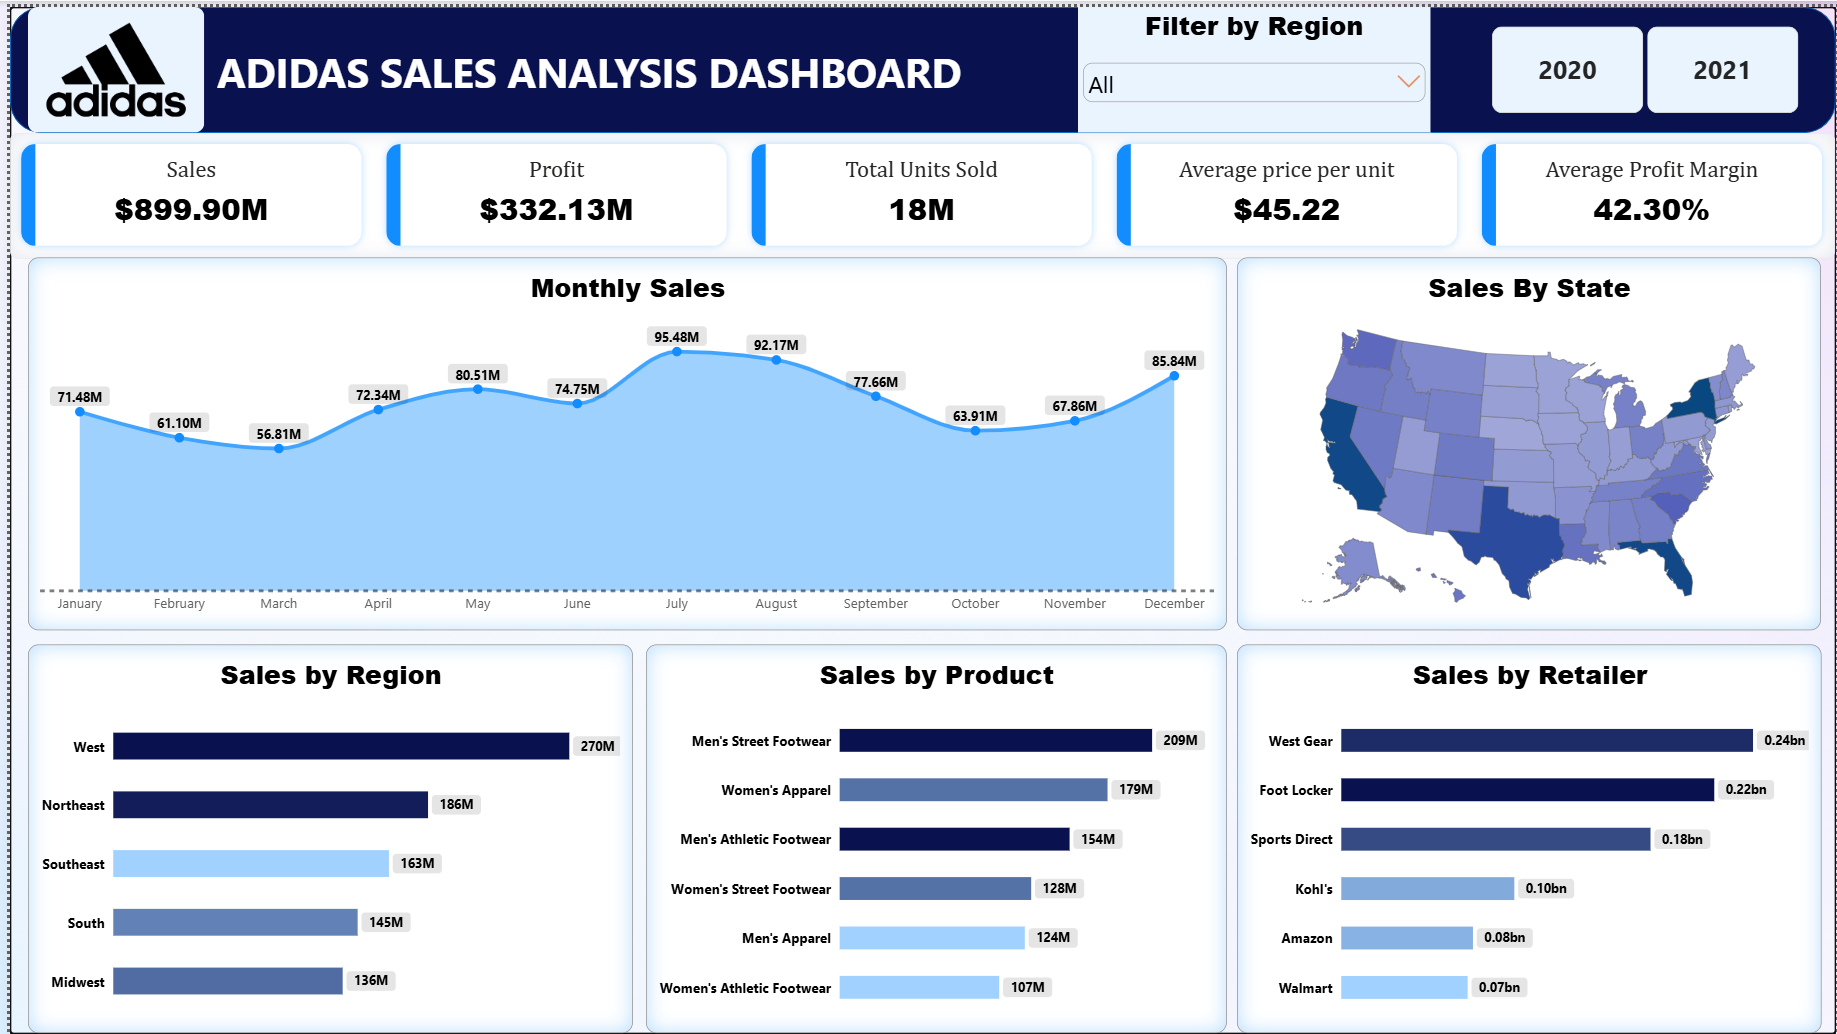

The page's visual inventory and layout, read from the dashboard file:
{"tool":"powerbi","page":{"name":"Page 1","canvas":[1920,1080],"ordinal":0},"visuals":[{"type":"cardVisual","fields":{"Data":["Data Sales Adidas.Total_Revenue","Data Sales Adidas.Profit","Data Sales Adidas.Total_quantity_sold","Data Sales Adidas.Average price per unit","Data Sales Adidas.Average Profit Margin"]},"box":[0,131.8,1919.4,131.8],"z":0},{"type":"stackedAreaChart","title":"Monthly Sales","fields":{"Category":["Data Sales Adidas.Invoice Date.Variation.Date Hierarchy.Month"],"Y":["Data Sales Adidas.Total_Revenue"]},"box":[18.3,263.5,1260.7,391.9],"z":1000},{"type":"shapeMap","title":"Sales By State","fields":{"Category":["Data Sales Adidas.State"],"Value":["Data Sales Adidas.Sales"]},"box":[1290.8,263.5,613.7,391.9],"z":2000},{"type":"clusteredBarChart","fields":{"Category":["Data Sales Adidas.Region"],"Y":["Data Sales Adidas.Sales"]},"box":[19.1,670.3,636,408.7],"z":3000},{"type":"clusteredBarChart","fields":{"Category":["Data Sales Adidas.Product"],"Y":["Data Sales Adidas.Sales"]},"box":[668.7,670.4,610.4,408.6],"z":4000},{"type":"clusteredBarChart","fields":{"Category":["Data Sales Adidas.Retailer"],"Y":["Data Sales Adidas.Sales"]},"box":[1290.3,670.4,615,408.7],"z":5000},{"type":"shape","box":[0,0,1920,132.5],"z":7000},{"type":"image","box":[19.1,0,185.3,131.8],"z":8000},{"type":"textbox","box":[217.7,40.1,796.4,91.7],"z":9000},{"type":"slicer","title":"Filter by Region","fields":{"Values":["Data Sales Adidas.Region"]},"box":[1123,0,370.5,131.8],"z":10000},{"type":"advancedSlicerVisual","title":"Filter by Year","fields":{"Values":["Data Sales Adidas.Invoice Date.Variation.Date Hierarchy.Year"]},"box":[1558.4,21,322.8,91.7],"z":11000}]}

Visuals, with their boxes in screenshot pixels (x1, y1, x2, y2), scaled from the page's 1920x1080 canvas onto the 1837x1034 screenshot:
cardVisual - Data Sales Adidas.Total_Revenue x Data Sales Adidas.Profit: bbox=(0, 126, 1836, 252)
"Monthly Sales" stackedAreaChart: bbox=(18, 252, 1224, 627)
"Sales By State" shapeMap: bbox=(1235, 252, 1822, 627)
clusteredBarChart - Data Sales Adidas.Region x Data Sales Adidas.Sales: bbox=(18, 642, 627, 1033)
clusteredBarChart - Data Sales Adidas.Product x Data Sales Adidas.Sales: bbox=(640, 642, 1224, 1033)
clusteredBarChart - Data Sales Adidas.Retailer x Data Sales Adidas.Sales: bbox=(1235, 642, 1823, 1033)
shape: bbox=(0, 0, 1836, 127)
image: bbox=(18, 0, 196, 126)
textbox: bbox=(208, 38, 970, 126)
"Filter by Region" slicer: bbox=(1074, 0, 1429, 126)
"Filter by Year" advancedSlicerVisual: bbox=(1491, 20, 1800, 108)
